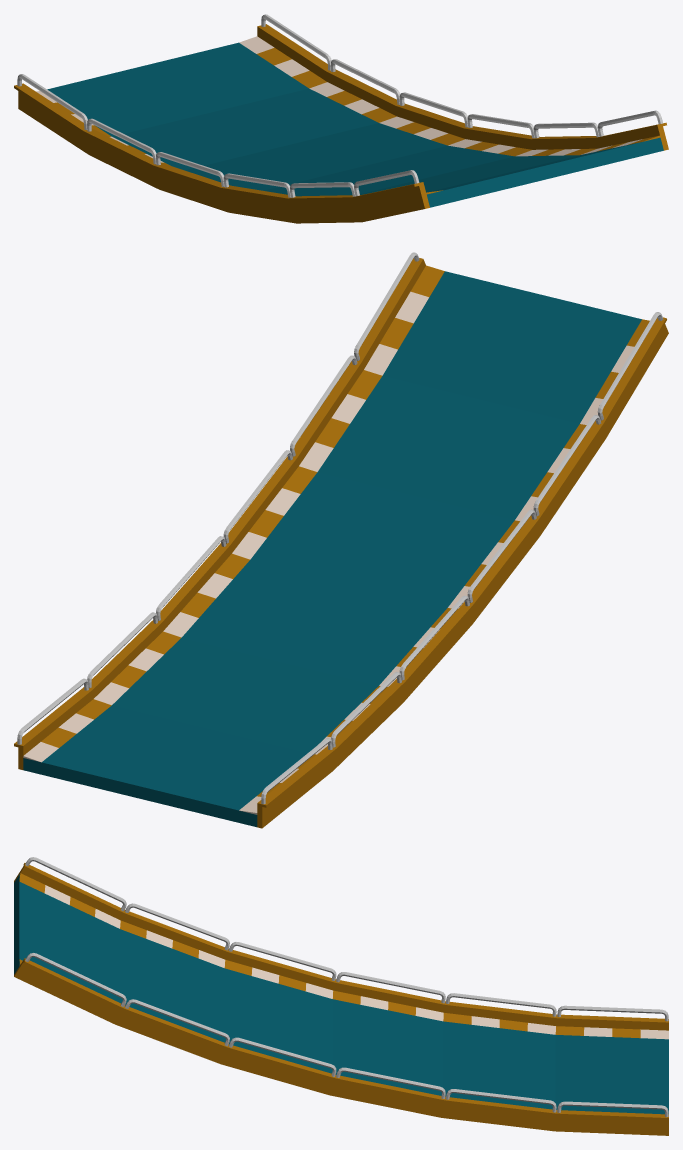
Rendered from ascent-30_l.FBX.
3 views of the same model, one above another, from view 1: azimuth 30°, elevation 25°; view 2: azimuth 150°, elevation 25°; view 3: azimuth 270°, elevation 25° (orthographic). The views are drawn at different scales.
Visible parts, largest first — view 1: ascent-30_l, wall_r, wall_l, curbs_l, curbs_r; view 2: ascent-30_l, wall_r, wall_l, curbs_l, curbs_r; view 3: ascent-30_l, wall_l, wall_r, curbs_r.
Part boxes in pixels (x1,y1,x2,y2): ascent-30_l: (47, 42, 663, 207); wall_r: (14, 74, 429, 223); wall_l: (257, 14, 668, 150); curbs_l: (239, 36, 660, 156); curbs_r: (36, 91, 442, 194); ascent-30_l: (23, 271, 641, 827); wall_r: (257, 312, 668, 828); wall_l: (14, 252, 425, 769); curbs_l: (23, 265, 444, 762); curbs_r: (239, 319, 649, 814); ascent-30_l: (14, 874, 668, 1114); wall_l: (14, 953, 668, 1135); wall_r: (14, 857, 668, 1030); curbs_r: (19, 873, 668, 1039).
Size of what is drawn, in the model's own units: 207 by 178 by 578.
